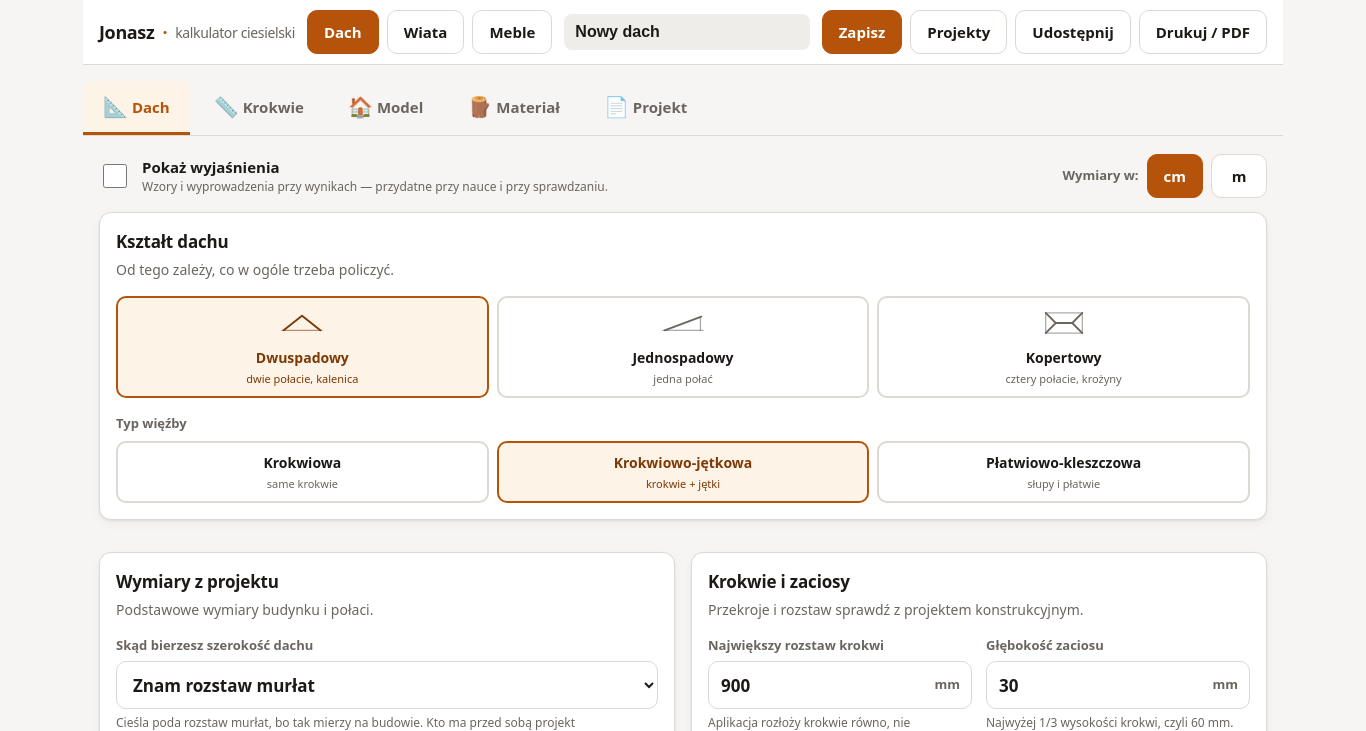
aplikacja jako całość › wyjaśnienia pojawiają się dopiero po włączeniu
This screenshot has width=1366, height=731.
Expected: the text "długość krokwi = " is not shown
Click the checkbox labelled "Pokaż wyjaśnienia": coordinates (115, 176) [103,164,127,188]
(page scrolled)
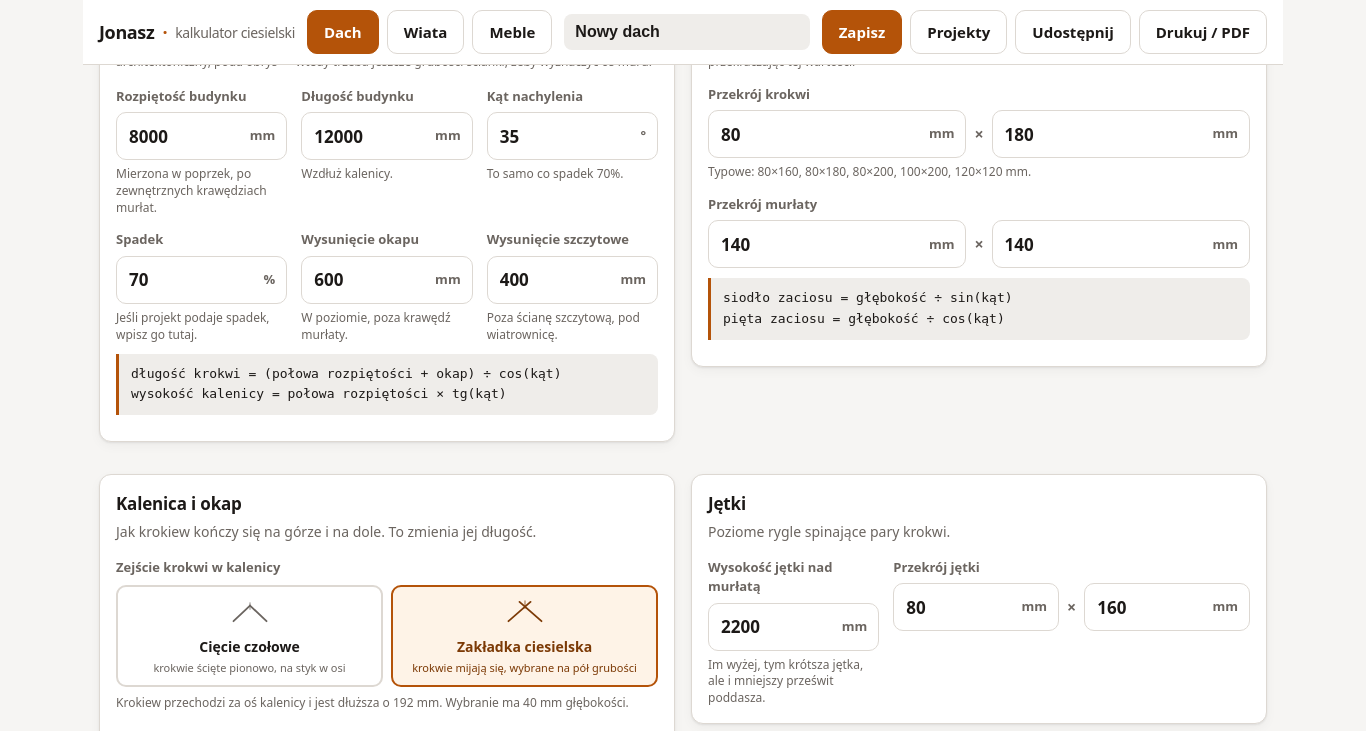
Result: the text "długość krokwi = " is shown at [131,366,562,381]
